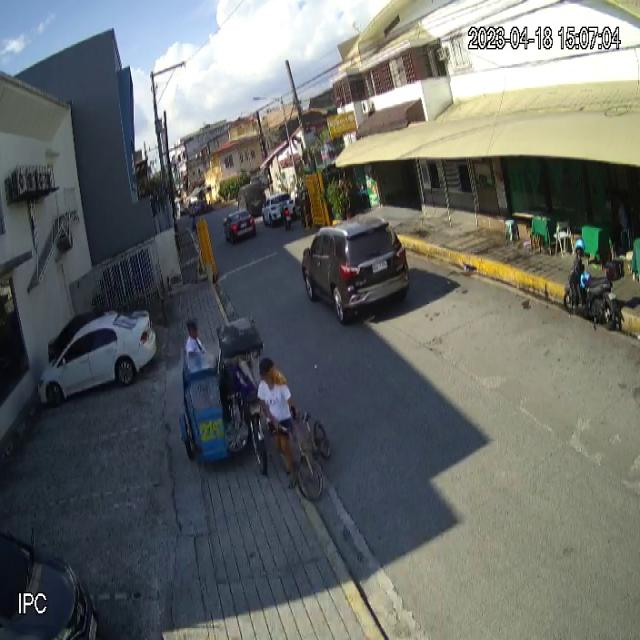Car: (301, 217, 410, 327), (38, 312, 157, 407)
Motorcycle: (563, 250, 625, 332)
Tricycle: (179, 316, 268, 478)
